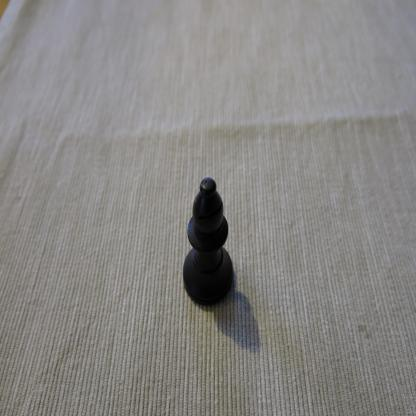black-bishop: (182, 176, 234, 308)
